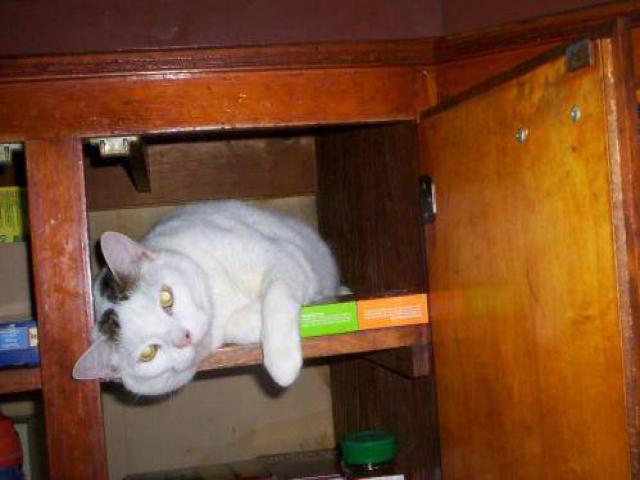cat: (92, 192, 347, 399)
